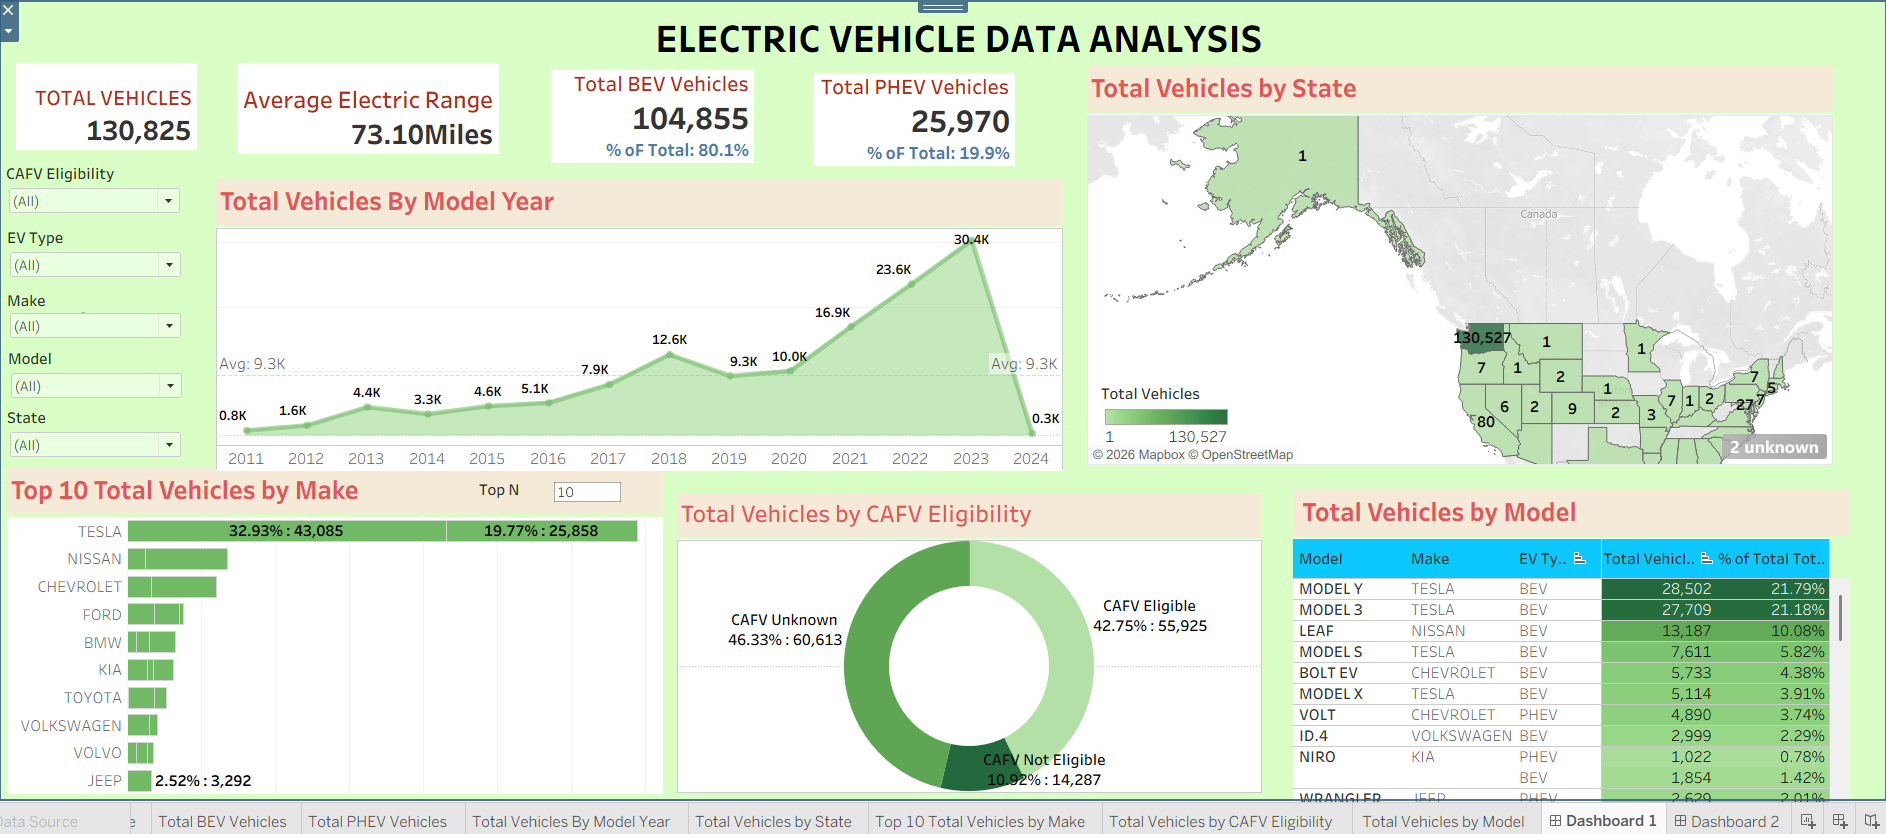

What the dashboard file says about the page in this screenshot:
{"tool":"tableau","page":{"name":"Dashboard 1","canvas":[1000,1000],"units":"permille","ordinal":0},"visuals":[{"type":"title","box":[4.7,10,990.6,72.4]},{"type":"worksheet","title":"Total Vehicles","mark":"Automatic","box":[8.8,78.7,110.2,141.1]},{"type":"worksheet","title":"Average Electric Range","mark":"Automatic","box":[126.6,78.7,164.1,134.8]},{"type":"worksheet","title":"Total Vehicles by State","mark":"Multipolygon","box":[576.2,82.4,395.1,498.1]},{"type":"worksheet","title":"Total BEV Vehicles","mark":"Automatic","box":[292.5,87.4,154.2,131.1]},{"type":"worksheet","title":"Total PHEV Vehicles ","mark":"Automatic","box":[431.4,91.1,144.8,123.6]},{"type":"filter","title":"Total Vehicles By Model Year","param":"[federated.1p9omj01beprh70zwrt6w1c0rrra].[none:Clean Alternative Fuel Vehicle (C","box":[3.5,203.5,93.8,97.4]},{"type":"worksheet","title":"Total Vehicles By Model Year","mark":"Area","rows":["Calculation_0227365718810624","Calculation_0227365718810624"],"cols":["Model Year"],"box":[114.9,223.5,448.4,364.5]},{"type":"filter","title":"Total Vehicles By Model Year","param":"[federated.1p9omj01beprh70zwrt6w1c0rrra].[none:Electric Vehicle Type:nk]","box":[4.1,283.4,93.8,88.6]},{"type":"filter","title":"Total Vehicles By Model Year","param":"[federated.1p9omj01beprh70zwrt6w1c0rrra].[none:Make:nk]","box":[4.1,362.1,93.8,61.2]},{"type":"filter","title":"Total Vehicles By Model Year","param":"[federated.1p9omj01beprh70zwrt6w1c0rrra].[none:Model:nk]","box":[4.7,434.5,93.8,82.4]},{"type":"legend","title":"Total Vehicles by State","param":"[federated.1p9omj01beprh70zwrt6w1c0rrra].[usr:Calculation_0227365718810624:qk]","box":[583.6,478.2,69.4,83.7]},{"type":"filter","title":"Total Vehicles By Model Year","param":"[federated.1p9omj01beprh70zwrt6w1c0rrra].[none:State:nk]","box":[4.1,508.1,93.8,79.9]},{"type":"worksheet","title":"Top 10 Total Vehicles by Make","mark":"Automatic","rows":["Make"],"cols":["Calculation_0227365718810624"],"box":[4.2,584.3,347.6,407]},{"type":"parameter","param":"[Parameters].[Parameter 1]","box":[254.4,598,76.8,40]},{"type":"worksheet","title":"Total Vehicles by CAFV Eligibility","mark":"Pie","rows":["Calculation_0227366053298183","Calculation_0227366053298183"],"box":[359.3,615.5,310.1,374.5]}]}

Visuals, with their boxes on the dashboard's canvas, which has no fixed pixel size, in thousandths of its width and height (x1, y1, x2, y2). These are canvas units, not pixel positions in the 1886x834 screenshot, which may show the page scaled, cropped or inside an application window:
title: 5, 10, 995, 82
"Total Vehicles" worksheet: 9, 79, 119, 220
"Average Electric Range" worksheet: 127, 79, 291, 214
"Total Vehicles by State" worksheet (Multipolygon marks): 576, 82, 971, 580
"Total BEV Vehicles" worksheet: 292, 87, 447, 218
"Total PHEV Vehicles " worksheet: 431, 91, 576, 215
"Total Vehicles By Model Year" filter: 4, 204, 97, 301
"Total Vehicles By Model Year" worksheet (Area marks): 115, 224, 563, 588
"Total Vehicles By Model Year" filter: 4, 283, 98, 372
"Total Vehicles By Model Year" filter: 4, 362, 98, 423
"Total Vehicles By Model Year" filter: 5, 434, 98, 517
"Total Vehicles by State" legend: 584, 478, 653, 562
"Total Vehicles By Model Year" filter: 4, 508, 98, 588
"Top 10 Total Vehicles by Make" worksheet: 4, 584, 352, 991
parameter: 254, 598, 331, 638
"Total Vehicles by CAFV Eligibility" worksheet (Pie marks): 359, 616, 669, 990
